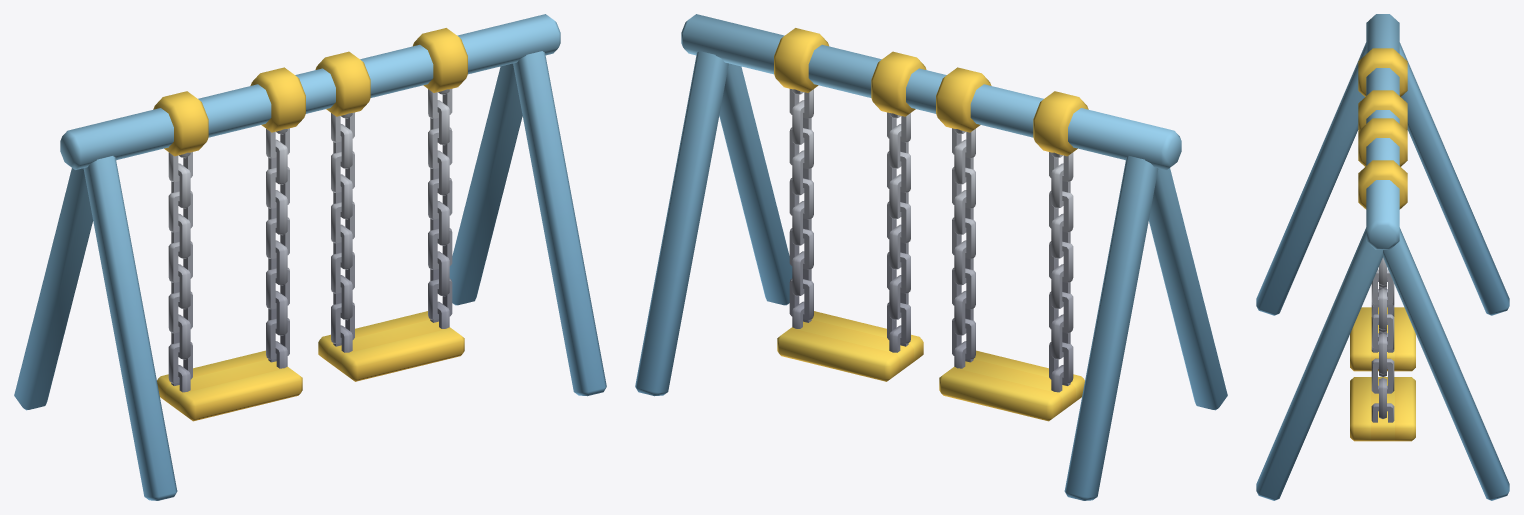
File: swing_A_large.glb
3 renders of one model, left to right at view 1: azimuth 30°, elevation 25°; view 2: azimuth 150°, elevation 25°; view 3: azimuth 270°, elevation 25°, orthographic. The views are drawn at different scales.
Parts seen in each view (by area): view 1: swing_A_large, swing_A_large_seat_B, swing_A_large_seat_A; view 2: swing_A_large, swing_A_large_seat_B, swing_A_large_seat_A; view 3: swing_A_large, swing_A_large_seat_B, swing_A_large_seat_A.
Boxes of the visible parts, x1,y1,x2,y2 form: swing_A_large: (14, 14, 606, 500); swing_A_large_seat_B: (318, 89, 464, 381); swing_A_large_seat_A: (157, 128, 302, 421); swing_A_large: (635, 14, 1227, 500); swing_A_large_seat_B: (777, 89, 923, 381); swing_A_large_seat_A: (939, 128, 1084, 421); swing_A_large: (1256, 14, 1509, 500); swing_A_large_seat_B: (1350, 258, 1415, 441); swing_A_large_seat_A: (1350, 280, 1415, 371).
Bounding box in the file's own units: 6 × 3.94 × 3.06.
1 material, 1 textured.
